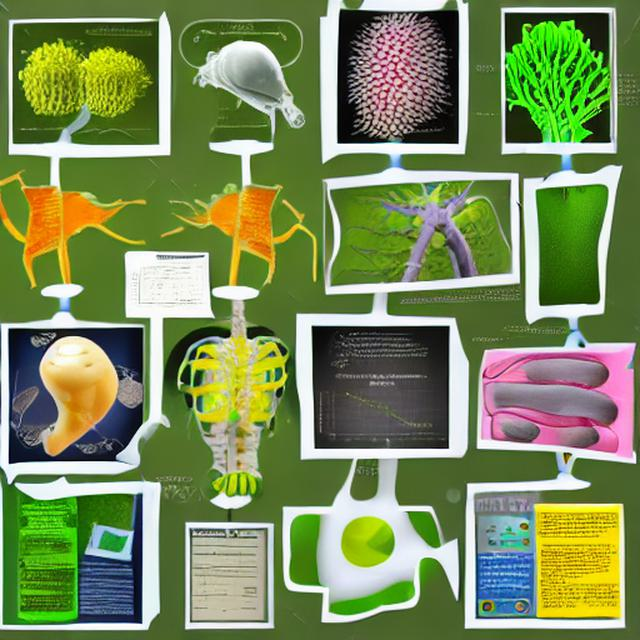Graph: (315, 370, 449, 449), (126, 265, 207, 313)
